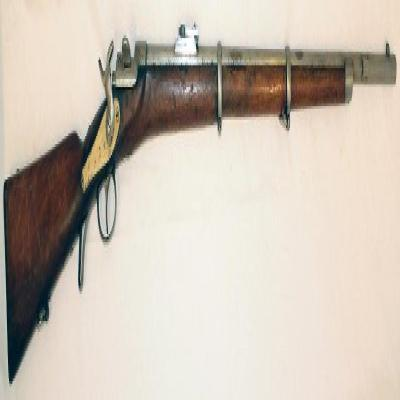weapon: (2, 38, 398, 384)
